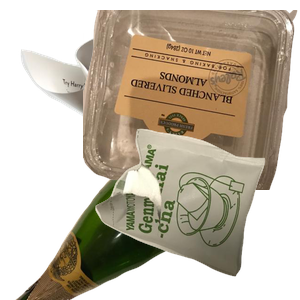glass: (13, 120, 253, 300)
paper: (18, 30, 213, 210)
plastic: (83, 10, 300, 190)
trash: (93, 126, 300, 300)
